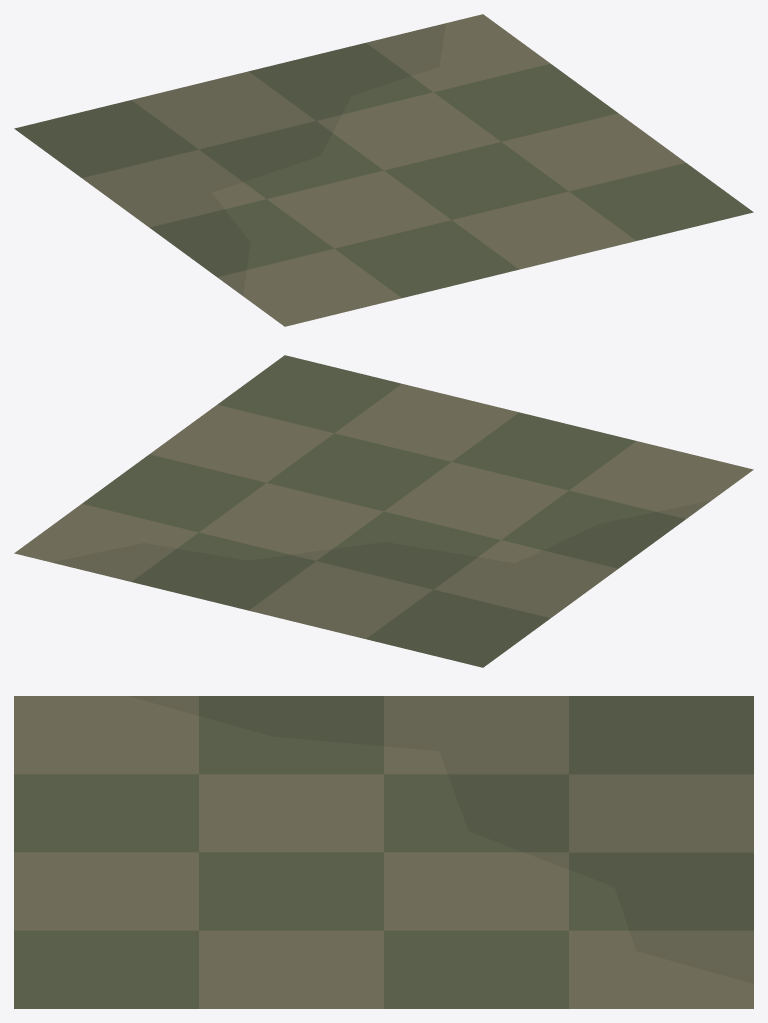
Rendered from AI_Env_Floor_03_Stained.fbx.
3 views of the same model, one above another, from view 1: azimuth 30°, elevation 25°; view 2: azimuth 150°, elevation 25°; view 3: azimuth 270°, elevation 25° (orthographic). The views are drawn at different scales.
Visible parts, largest first — view 1: AI_Env_Floor_03_Stained; view 2: AI_Env_Floor_03_Stained; view 3: AI_Env_Floor_03_Stained.
Part boxes in pixels (x1=…): AI_Env_Floor_03_Stained: x1=14, y1=14, x2=753, y2=326; AI_Env_Floor_03_Stained: x1=14, y1=355, x2=753, y2=667; AI_Env_Floor_03_Stained: x1=14, y1=696, x2=753, y2=1008.
Bounding box in the file's own units: 5 × 7.11e-15 × 5.
